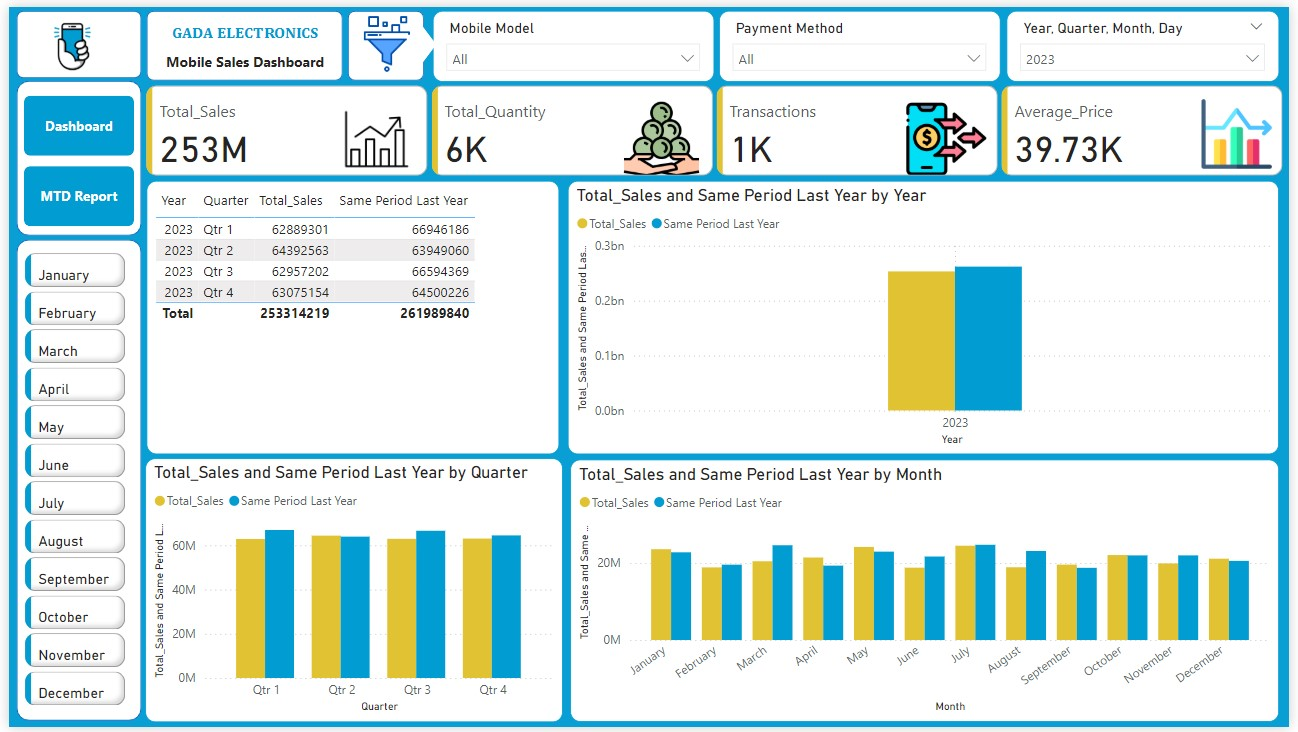

What the dashboard file says about the page in this screenshot:
{"tool":"powerbi","page":{"name":"Same Period Last Year","canvas":[1280,720],"ordinal":2},"visuals":[{"type":"shape","box":[7.5,3.8,125,67.5],"z":0},{"type":"image","box":[23.8,3.8,78.8,71.2],"z":1000},{"type":"shape","box":[7.5,73.8,125,155],"z":2000},{"type":"cardVisual","fields":{"Data":["Sales_Data.Total_Sales","Sales_Data.Total_Quantity","Sales_Data.Transactions","Sales_Data.Average_Price"]},"box":[132.5,73.8,1147.5,100],"z":3000},{"type":"slicer","fields":{"Values":["Sales_Data.Mobile Model"]},"box":[423.8,3.8,281.2,71.2],"z":4000},{"type":"slicer","fields":{"Values":["Sales_Data.Payment Method"]},"box":[710,3.8,281.2,71.2],"z":5000},{"type":"slicer","fields":{"Values":["Custom_Calendar.Date.Variation.Date Hierarchy.Year","Custom_Calendar.Date.Variation.Date Hierarchy.Quarter","Custom_Calendar.Date.Variation.Date Hierarchy.Month","Custom_Calendar.Date.Variation.Date Hierarchy.Day"]},"box":[997.5,3.8,272.5,71.2],"z":6000},{"type":"shape","box":[338.8,3.8,76.2,70],"z":7000},{"type":"image","box":[337.5,3.8,81.2,66.2],"z":8000},{"type":"shape","box":[397.5,17.5,30,40],"z":9000},{"type":"shape","box":[7.5,232.5,125,481.2],"z":11000},{"type":"shape","box":[137.5,3.8,196.2,70],"z":12000,"group":"g1"},{"type":"advancedSlicerVisual","fields":{"Values":["Custom_Calendar.Date.Variation.Date Hierarchy.Month"]},"box":[11.2,241.2,110,472.5],"z":12000},{"type":"textbox","box":[146.4,40.5,179.8,29.8],"z":13000,"group":"g1"},{"type":"tableEx","fields":{"Values":["Custom_Calendar.Date.Variation.Date Hierarchy.Year","Custom_Calendar.Date.Variation.Date Hierarchy.Quarter","Sales_Data.Total_Sales","Sales_Data.Same Period Last Year"]},"box":[137.5,173.8,412.5,273.8],"z":13000},{"type":"clusteredColumnChart","fields":{"Category":["Custom_Calendar.Date.Variation.Date Hierarchy.Year","Custom_Calendar.Date.Variation.Date Hierarchy.Quarter"],"Y":["Sales_Data.Total_Sales","Sales_Data.Same Period Last Year"]},"box":[558.8,173.8,711.2,273.8],"z":14000},{"type":"clusteredColumnChart","fields":{"Y":["Sales_Data.Total_Sales","Sales_Data.Same Period Last Year"],"Category":["Custom_Calendar.Date.Variation.Date Hierarchy.Year","Custom_Calendar.Date.Variation.Date Hierarchy.Quarter","Custom_Calendar.Date.Variation.Date Hierarchy.Month","Custom_Calendar.Date.Variation.Date Hierarchy.Day"]},"box":[561.2,452.5,708.8,262.5],"z":15000},{"type":"clusteredColumnChart","fields":{"Category":["Custom_Calendar.Date.Variation.Date Hierarchy.Year","Custom_Calendar.Date.Variation.Date Hierarchy.Quarter"],"Y":["Sales_Data.Total_Sales","Sales_Data.Same Period Last Year"]},"box":[136.2,451.2,417.5,263.8],"z":16000},{"type":"pageNavigator","box":[15,88.8,110,130],"z":17000},{"type":"group","id":"g1","title":"Group 1","box":[137.5,3.8,196.2,70],"z":17001},{"type":"textbox","box":[146.4,10.8,179.8,29.8],"z":22000,"group":"g1"}]}

Visuals, with their boxes in screenshot pixels (x1, y1, x2, y2), scaled from the page's 1280x720 canvas onto the 1298x732 screenshot:
shape: (8, 4, 134, 72)
image: (24, 4, 104, 76)
shape: (8, 75, 134, 233)
cardVisual - Sales_Data.Total_Sales x Sales_Data.Total_Quantity: (134, 75, 1297, 177)
slicer - Sales_Data.Mobile Model: (430, 4, 715, 76)
slicer - Sales_Data.Payment Method: (720, 4, 1005, 76)
slicer - Custom_Calendar.Date.Variation.Date Hierarchy.Year x Custom_Calendar.Date.Variation.Date Hierarchy.Quarter: (1012, 4, 1288, 76)
shape: (344, 4, 421, 75)
image: (342, 4, 425, 71)
shape: (403, 18, 434, 58)
shape: (8, 236, 134, 726)
shape: (139, 4, 338, 75)
advancedSlicerVisual - Custom_Calendar.Date.Variation.Date Hierarchy.Month: (11, 245, 123, 726)
textbox: (148, 41, 331, 71)
tableEx - Custom_Calendar.Date.Variation.Date Hierarchy.Year x Custom_Calendar.Date.Variation.Date Hierarchy.Quarter: (139, 177, 558, 455)
clusteredColumnChart - Custom_Calendar.Date.Variation.Date Hierarchy.Year x Custom_Calendar.Date.Variation.Date Hierarchy.Quarter: (567, 177, 1288, 455)
clusteredColumnChart - Sales_Data.Total_Sales x Sales_Data.Same Period Last Year: (569, 460, 1288, 727)
clusteredColumnChart - Custom_Calendar.Date.Variation.Date Hierarchy.Year x Custom_Calendar.Date.Variation.Date Hierarchy.Quarter: (138, 459, 561, 727)
pageNavigator: (15, 90, 127, 222)
"Group 1" group: (139, 4, 338, 75)
textbox: (148, 11, 331, 41)
